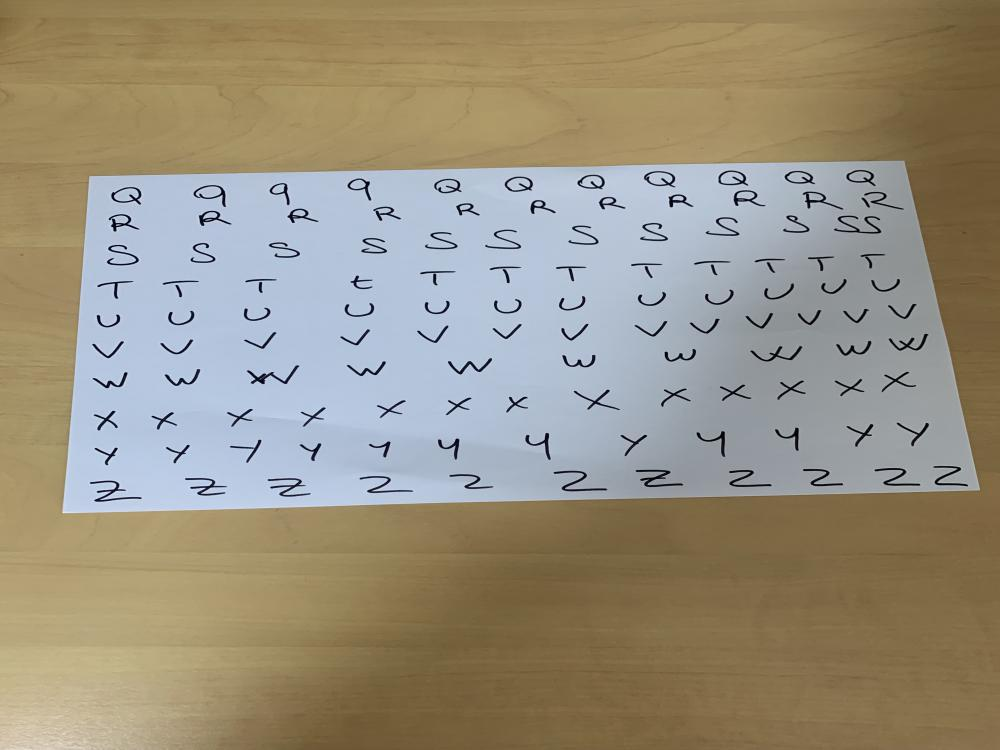Q: (192, 183, 232, 208), (342, 176, 380, 202), (263, 180, 297, 207), (501, 172, 538, 195), (641, 168, 682, 188), (714, 168, 753, 189), (572, 171, 612, 191), (110, 184, 146, 206), (433, 176, 467, 196), (782, 169, 819, 186), (844, 168, 878, 186)
R: (859, 191, 906, 210), (800, 190, 844, 210), (195, 210, 235, 230), (108, 211, 142, 233), (285, 208, 323, 226), (732, 189, 766, 207), (596, 194, 629, 212), (372, 205, 404, 222), (529, 199, 558, 216), (666, 193, 694, 210), (456, 201, 482, 218)
S: (104, 242, 142, 268), (483, 228, 525, 250), (704, 216, 743, 238), (566, 224, 601, 247), (422, 231, 460, 251), (188, 241, 218, 264), (640, 222, 670, 244), (830, 214, 860, 235), (267, 241, 302, 259), (784, 214, 813, 234), (359, 237, 390, 254), (862, 214, 884, 236)
T: (98, 276, 134, 301), (160, 278, 203, 298), (418, 268, 460, 288), (486, 266, 525, 286), (692, 260, 734, 277), (554, 264, 589, 284), (753, 257, 789, 275), (244, 278, 280, 296), (804, 256, 838, 274), (630, 262, 664, 280), (858, 252, 890, 270), (347, 274, 379, 292)
U: (762, 283, 798, 301), (866, 278, 904, 294), (819, 278, 851, 296), (704, 288, 736, 306), (637, 290, 669, 308), (343, 302, 379, 318), (167, 309, 198, 327), (92, 312, 124, 329), (557, 296, 590, 312), (422, 300, 454, 316), (494, 297, 524, 314), (242, 307, 274, 322)
V: (88, 339, 132, 360), (416, 324, 456, 345), (242, 331, 282, 351), (335, 328, 373, 348), (884, 301, 920, 321), (744, 310, 776, 332), (633, 320, 671, 338), (158, 338, 196, 356), (839, 306, 873, 326), (686, 318, 723, 336), (489, 323, 526, 341), (558, 323, 592, 342), (794, 308, 824, 328)
W: (243, 365, 303, 387), (748, 344, 808, 364), (85, 370, 136, 391), (447, 356, 494, 376), (886, 332, 932, 352), (162, 368, 204, 387), (344, 359, 388, 377), (833, 340, 875, 357), (560, 354, 599, 370), (662, 349, 702, 363)
X: (570, 388, 624, 414), (876, 371, 922, 394), (656, 386, 698, 408), (716, 382, 756, 404), (833, 376, 870, 399), (375, 398, 410, 420), (91, 408, 122, 432), (442, 396, 479, 416), (776, 379, 808, 402), (297, 406, 330, 428), (224, 408, 258, 427), (150, 411, 182, 430), (91, 409, 119, 430), (504, 396, 533, 414)
Y: (689, 429, 733, 458), (894, 419, 936, 448), (521, 432, 558, 462), (615, 433, 653, 459), (844, 421, 880, 448), (228, 438, 264, 465), (772, 428, 810, 453), (91, 443, 125, 468), (163, 444, 198, 467), (431, 437, 463, 462), (363, 438, 393, 461), (295, 442, 326, 463)
Z: (87, 477, 147, 504), (550, 469, 615, 492), (359, 474, 420, 494), (635, 468, 688, 489), (266, 477, 318, 498), (932, 464, 974, 488), (872, 467, 922, 487), (726, 469, 773, 489), (448, 473, 498, 491), (802, 468, 846, 488), (184, 476, 228, 496)
